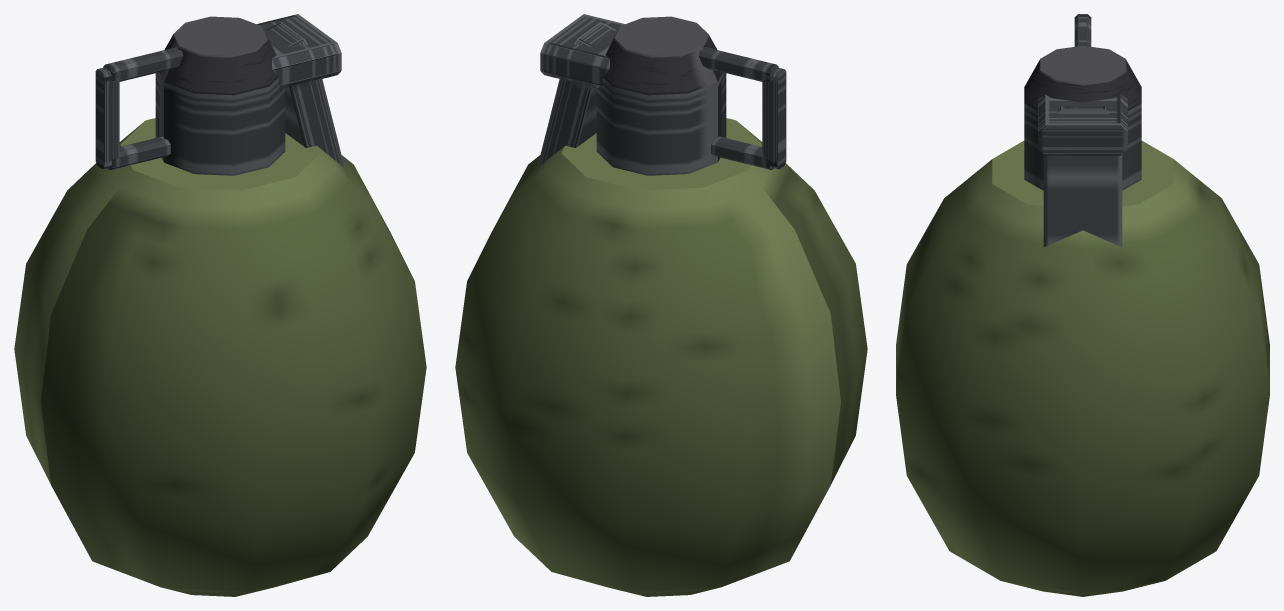
The model's file is HEGrenade_1P.glb.
The picture shows the model from 3 angles, left to right: view 1: azimuth 30°, elevation 25°; view 2: azimuth 150°, elevation 25°; view 3: azimuth 270°, elevation 25°; orthographic projection. The views are drawn at different scales.
Parts seen in each view (by area): view 1: HEGrenade_1P; view 2: HEGrenade_1P; view 3: HEGrenade_1P.
Boxes of the visible parts, box(x1,y1,x2,y2) form: HEGrenade_1P: box(14, 14, 426, 596); HEGrenade_1P: box(455, 14, 867, 596); HEGrenade_1P: box(896, 14, 1269, 596).
Size of the model in its own units: 0.07 by 0.099 by 0.0666.
1 material, 1 textured.
